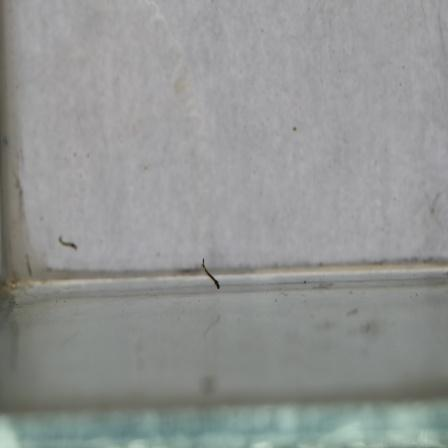Jentik-Nyamuk: (198, 256, 224, 294), (55, 232, 81, 254)
